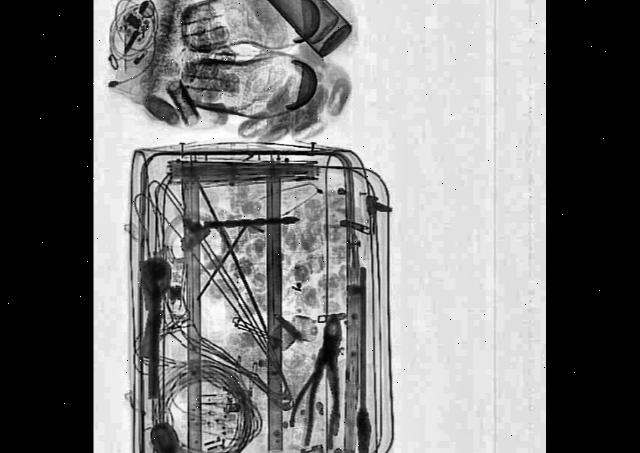Pliers: (305, 309, 350, 450)
